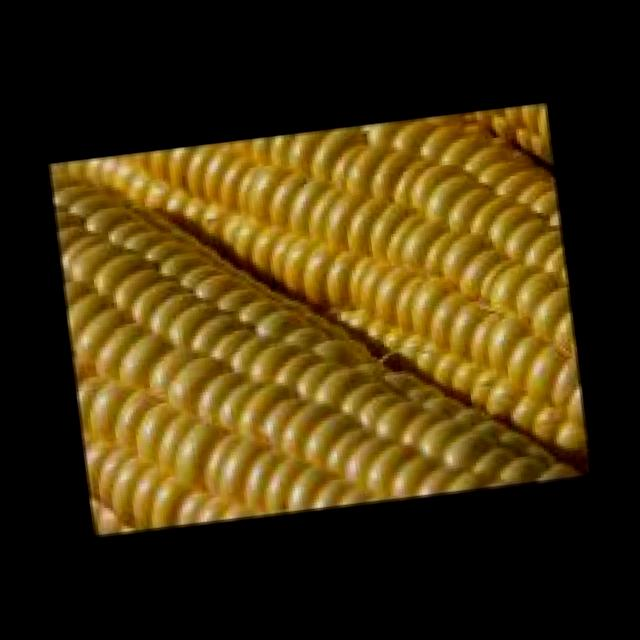corn: (48, 108, 596, 538)
